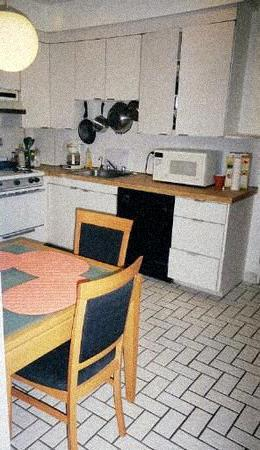Electrodomestico: (113, 187, 173, 276), (0, 176, 45, 236)
Lavaplatos: (68, 158, 133, 178)
